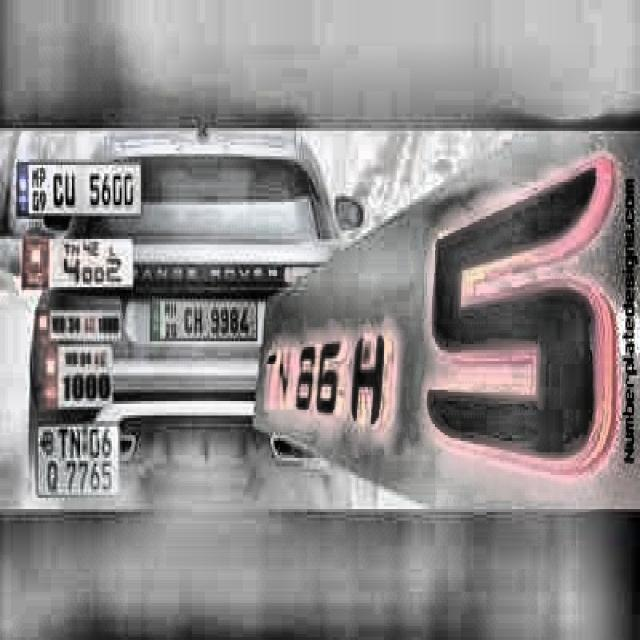license_plate: (263, 298, 413, 460), (14, 160, 140, 217), (36, 426, 119, 497), (24, 238, 134, 291), (149, 295, 258, 345), (35, 343, 113, 409), (35, 306, 123, 341)
